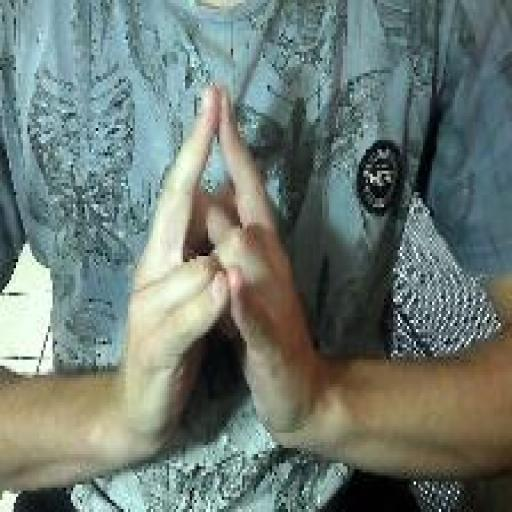Tori -bird-: (117, 80, 320, 458)
